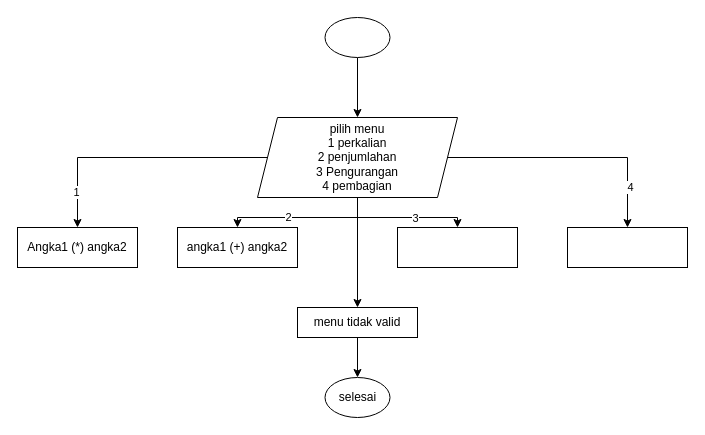
Image size: 705x435. Some labels were removed from this diagram. The box of each missing label's shape, as (x1, y1, x2, y2) in pixels:
angka1 (-) angka2: (396, 226, 518, 268)
angka1 (/) angka2: (566, 226, 688, 268)
mulai: (324, 16, 390, 58)
